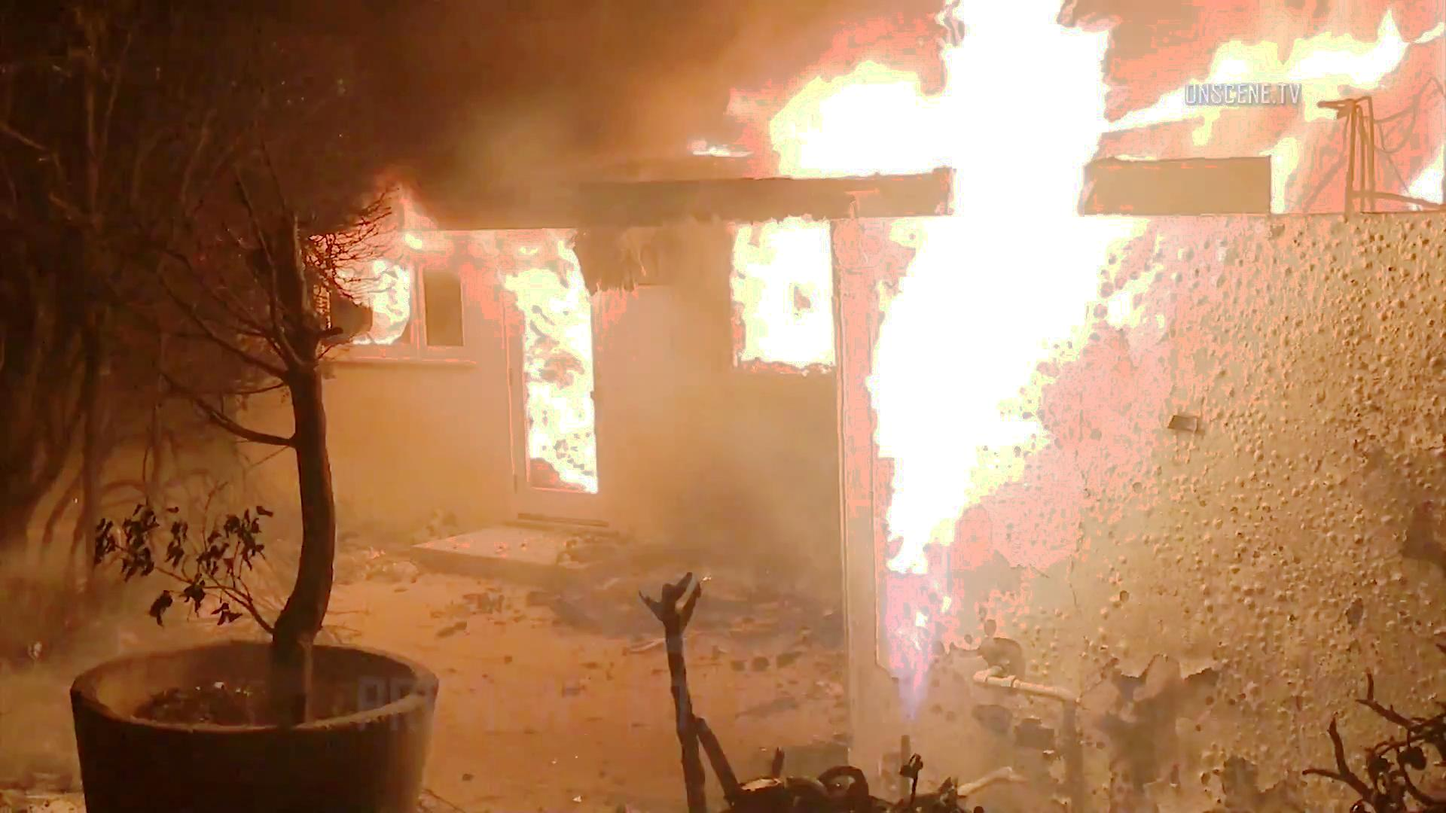fire: (883, 0, 1100, 332), (513, 239, 602, 481), (320, 187, 429, 351)
